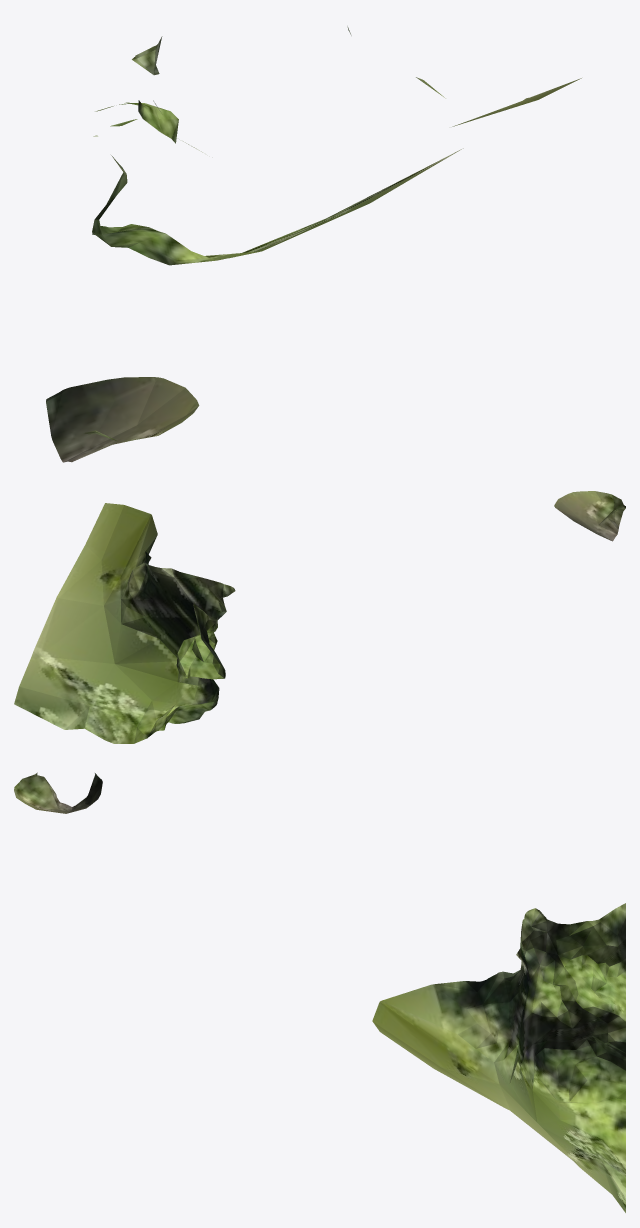
3 views of the same model, one above another, from view 1: azimuth 30°, elevation 25°; view 2: azimuth 150°, elevation 25°; view 3: azimuth 270°, elevation 25° (orthographic). The views are drawn at different scales.
Size of the model in its own units: 26.11 by 9.49 by 26.02.
1 material, 1 textured.
